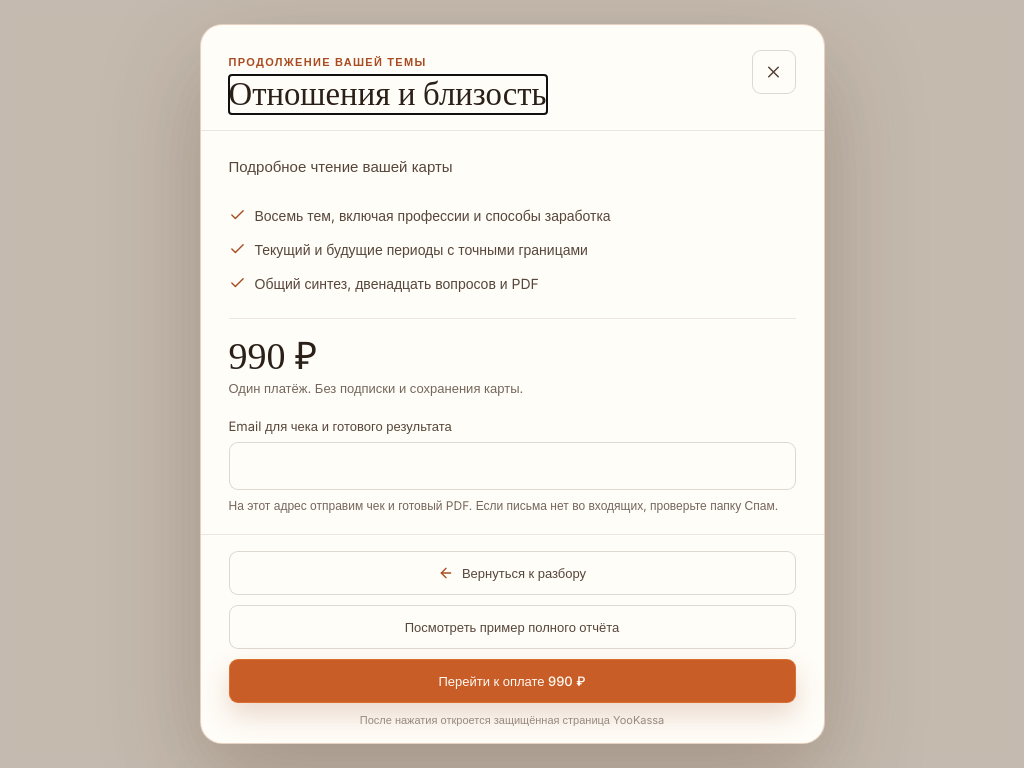
Test: PaymentPaywall › requires a valid receipt email and explicit offer consent
This screenshot has width=1024, height=768.
Click the button "Перейти к оплате 990 ₽".
click(512, 681)  # box top-left (228, 659), bottom-right (796, 703)
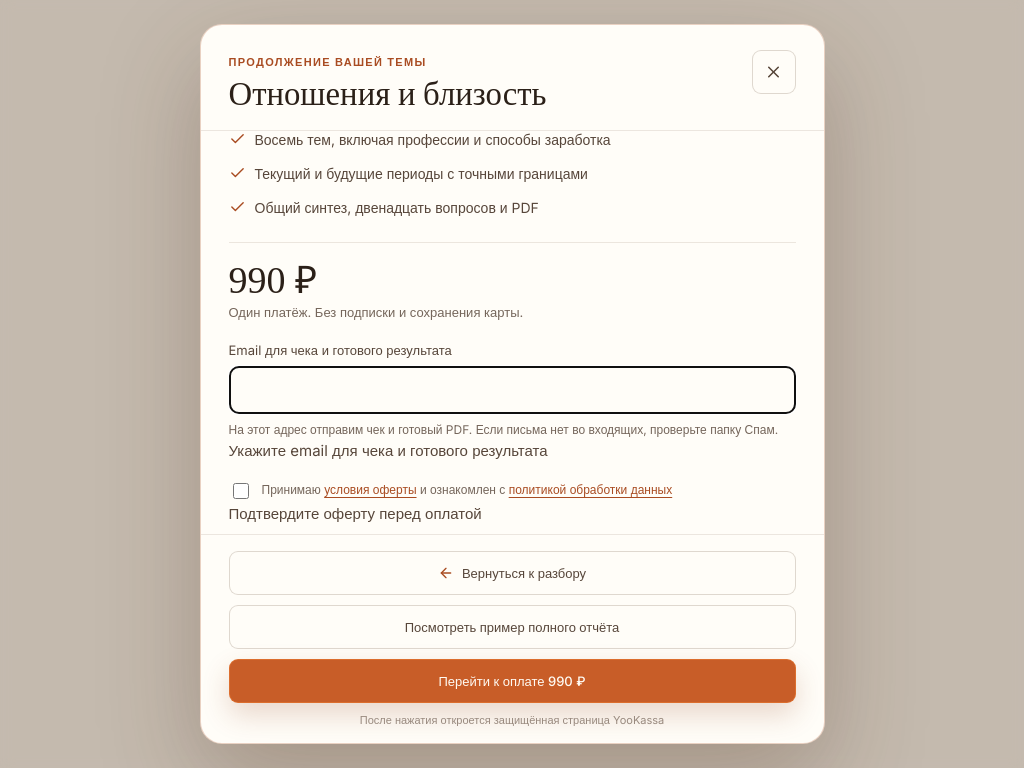
Expected: the text "Укажите email для чека и готового результата" is shown, top-left (228, 440), bottom-right (548, 460)
Expected: the text "Подтвердите оферту перед оплатой" is shown, top-left (228, 504), bottom-right (482, 523)
Type "broken" into the field labelled "Email для чека и готового результата".
click(512, 390); type("broken")  # box top-left (228, 366), bottom-right (796, 414)
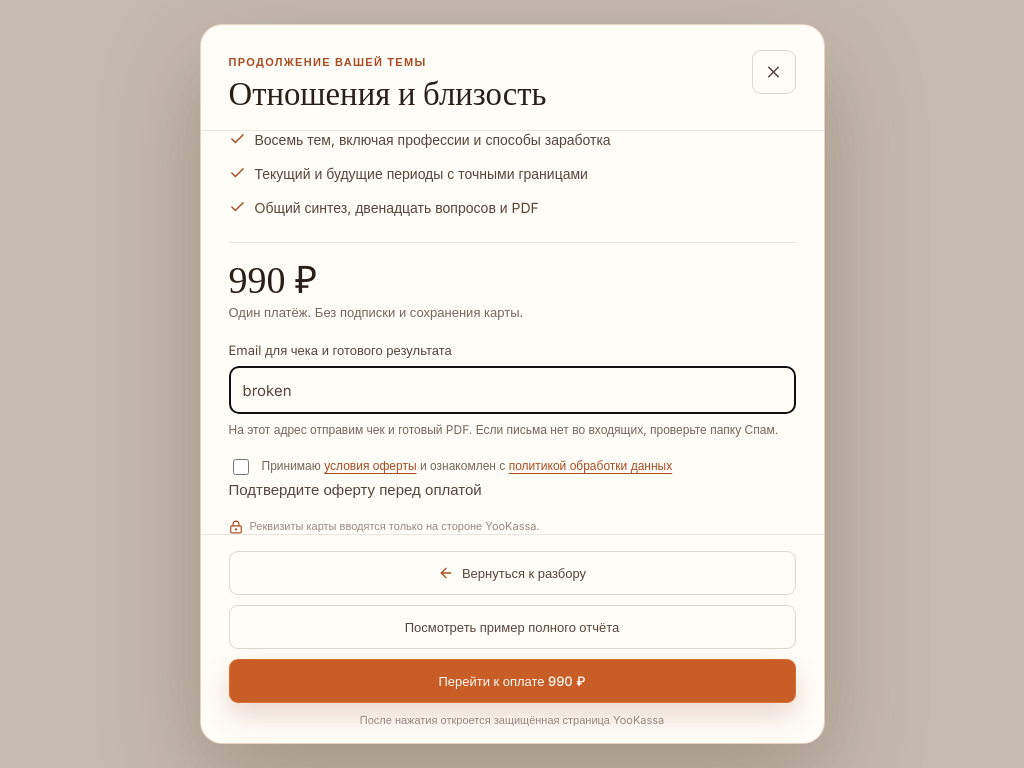
Click the checkbox labelled "Принимаю условия".
click(240, 466)  # box top-left (232, 458), bottom-right (248, 474)
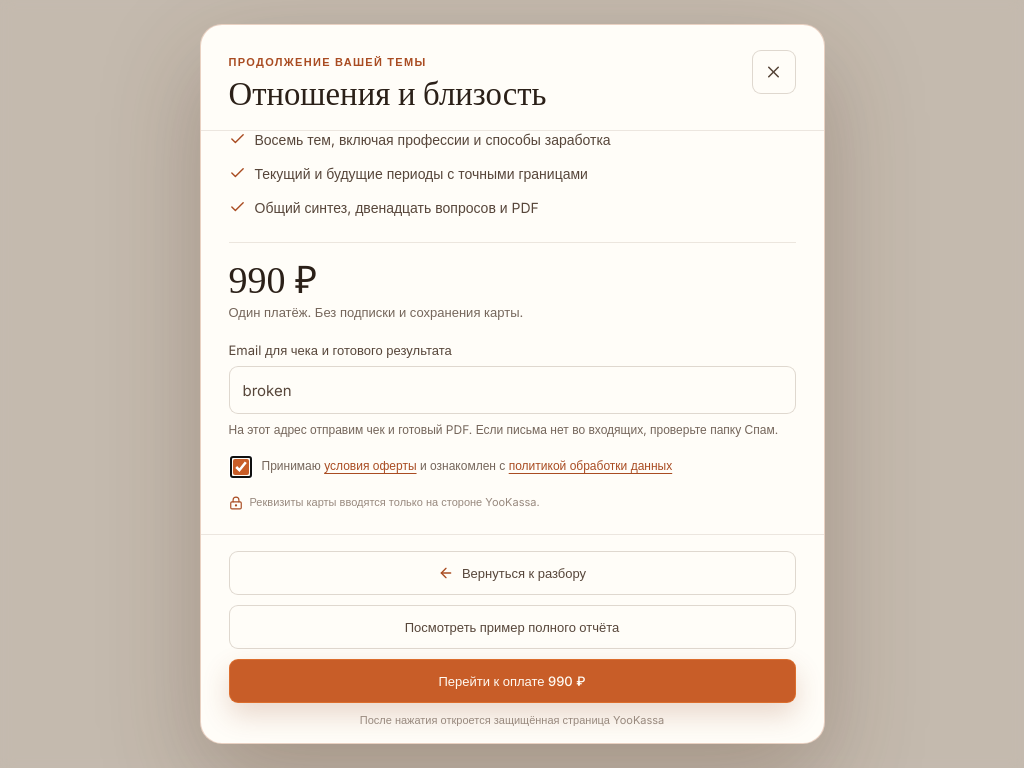
Click the button "Перейти к оплате 990 ₽".
click(512, 681)  # box top-left (228, 659), bottom-right (796, 703)
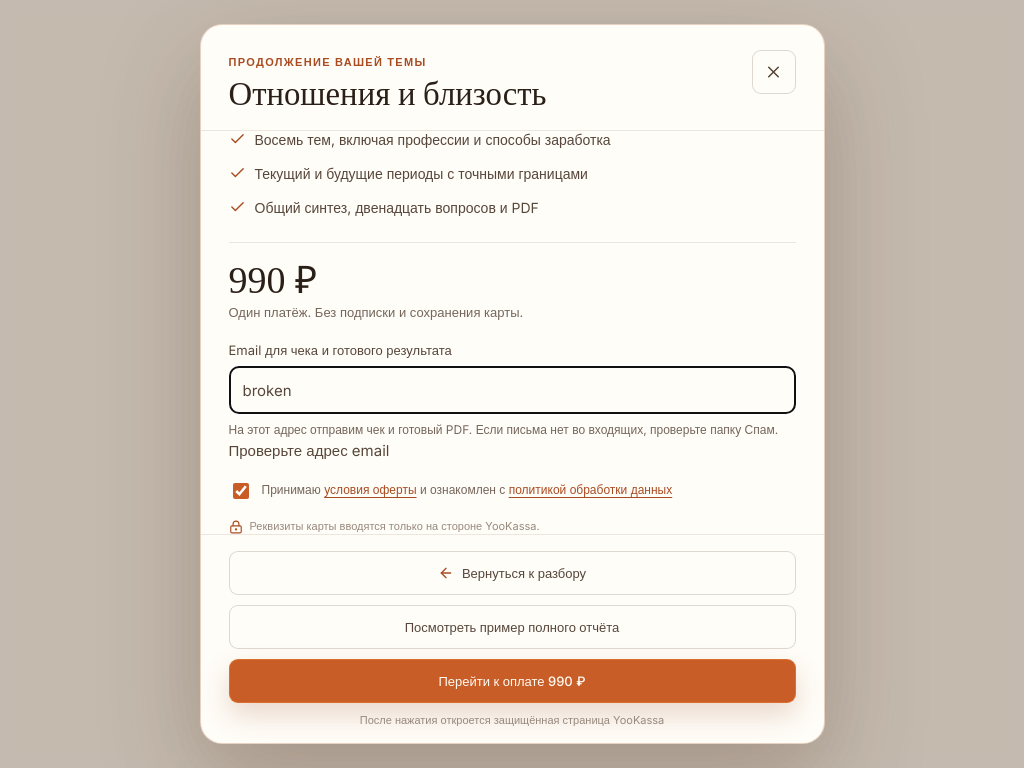
Expected: the text "Проверьте адрес email" is shown, top-left (228, 440), bottom-right (389, 460)
